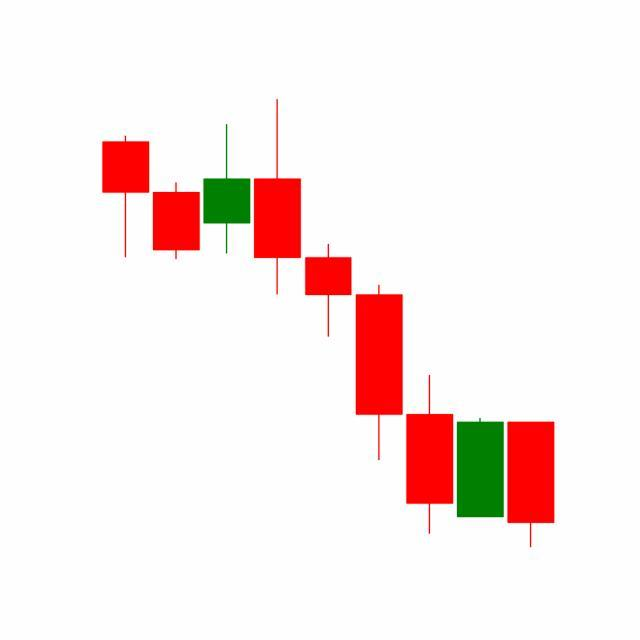Hikkake Pattern: (302, 240, 555, 549)
